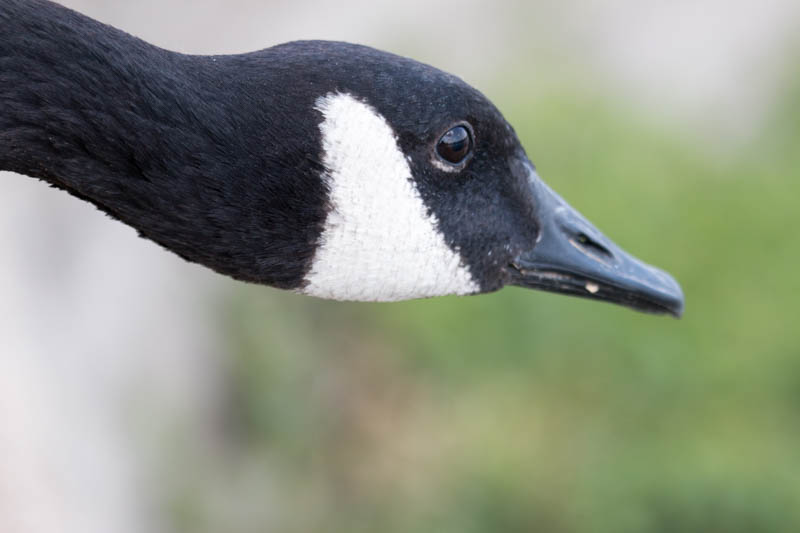goose-head: (210, 40, 689, 320)
